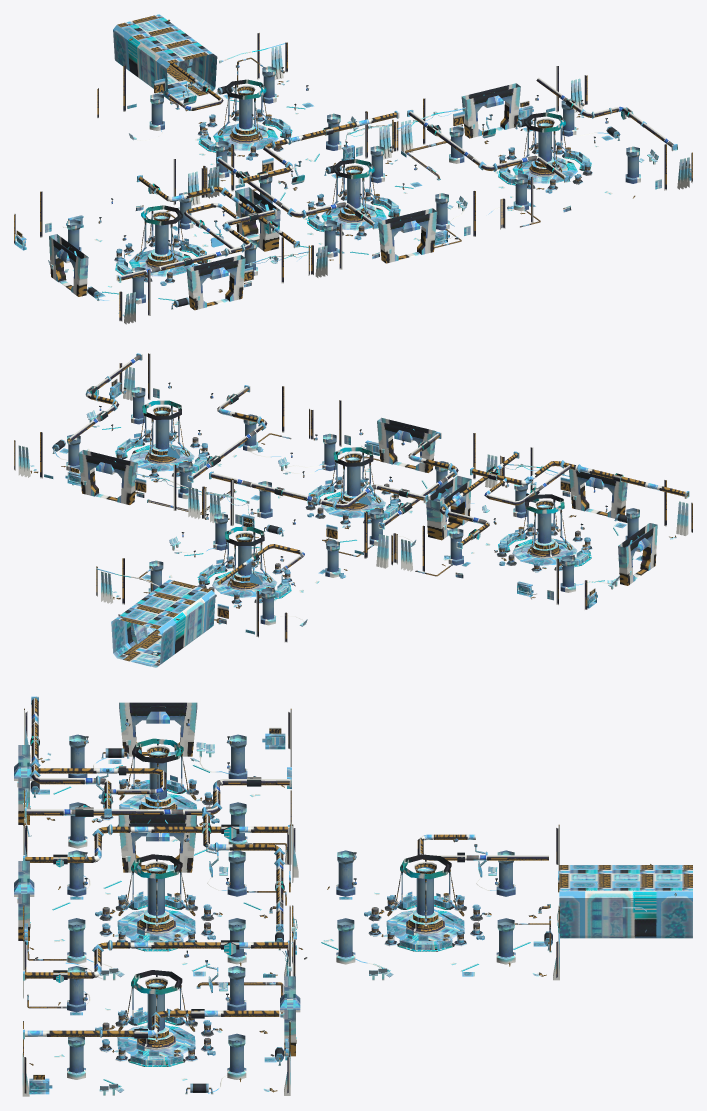
The model's file is Combined_Mesh_root_scene__10_7ad9d44b__ZombiesII_laboratory_10_a_1fa57b93_c1f257_part001.obj.
3 views of the same model, one above another, from view 1: azimuth 30°, elevation 25°; view 2: azimuth 150°, elevation 25°; view 3: azimuth 270°, elevation 25° (orthographic). The views are drawn at different scales.
Bounding box in the file's own units: 124 × 10.34 × 102.
Materials: 541 (541 with a texture image).
